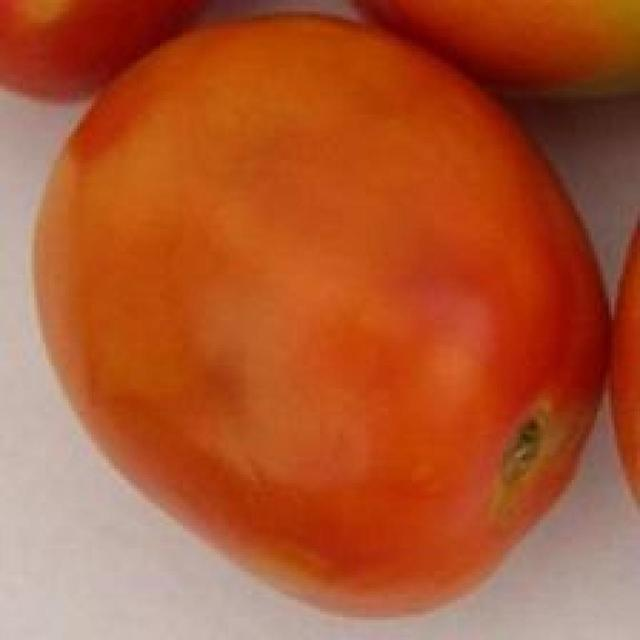Spotted wilt Virus Fruit: (23, 9, 408, 413)
